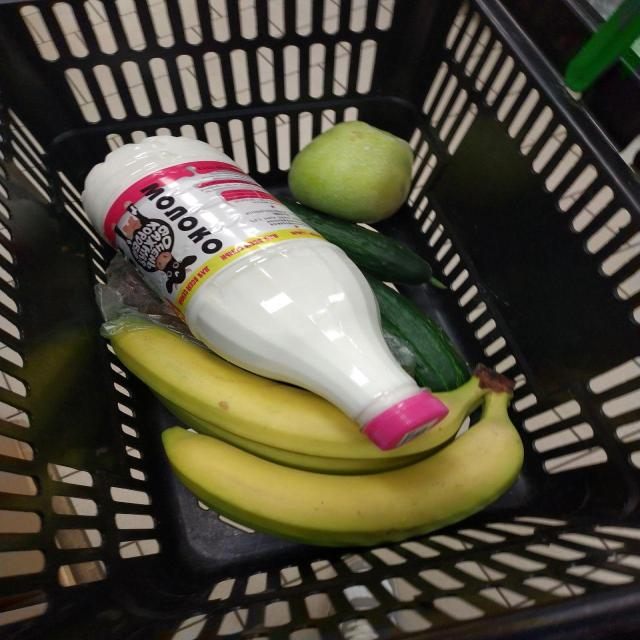apple: (209, 80, 617, 223)
banana: (222, 227, 640, 640), (229, 222, 638, 640), (246, 253, 640, 640)
cucumber: (230, 175, 640, 501), (206, 124, 589, 358)
milk: (203, 216, 629, 640)
